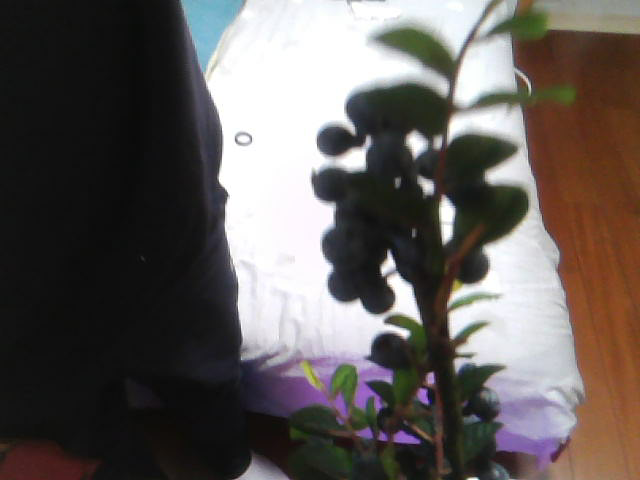blueberry: (364, 329, 408, 366), (313, 122, 354, 154), (312, 168, 351, 201)
